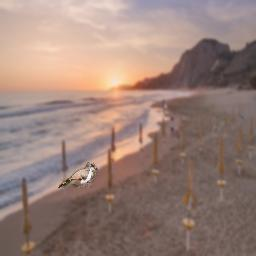Cuckoo: (58, 162, 98, 188)
